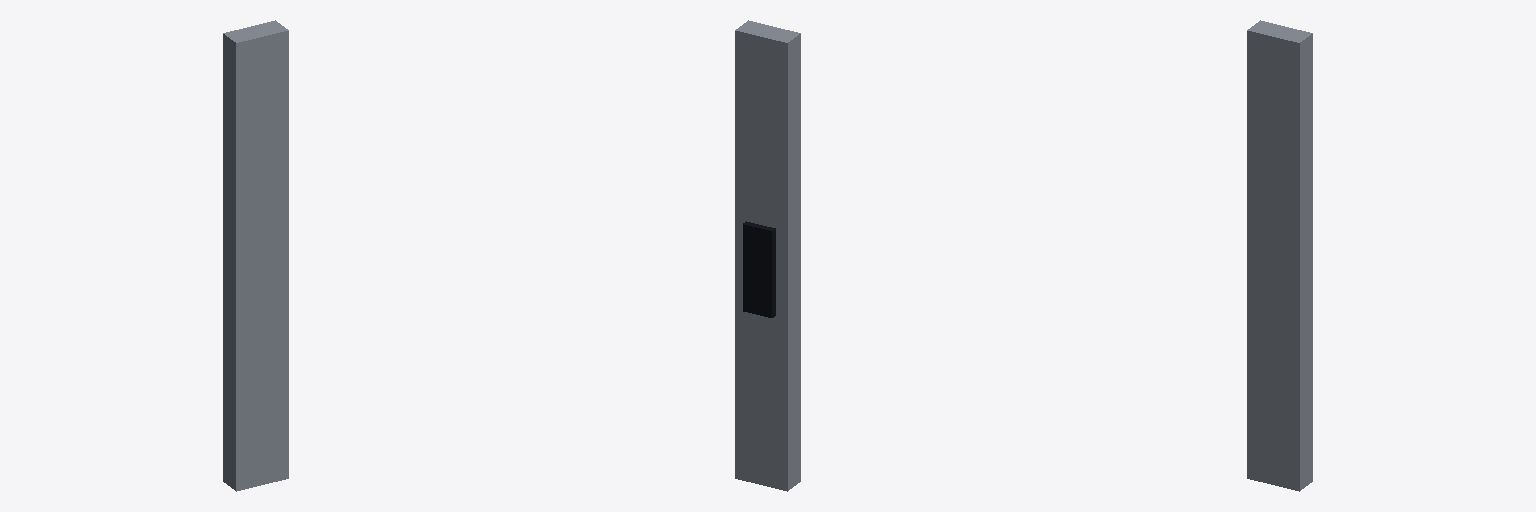
The robot description file, URDF, robot "artmanip_knife_029":
<?xml version='1.0' encoding='utf-8'?>
<robot name="artmanip_knife_029"><link name="link_0"><inertial><mass value="0.029" /><inertia ixx="5.583012354520432e-05" iyy="5.650144909367555e-05" izz="1.0045086728638997e-06" ixy="0" ixz="0" iyz="0" /></inertial><visual><geometry><box size="0.018620534945472077 0.008302676648498068 0.15176687928576918" /></geometry><material name="link_0_color"><color rgba=".58 .60 .64 1" /></material></visual><collision><geometry><box size="0.018620534945472077 0.008302676648498068 0.15176687928576918" /></geometry></collision></link><link name="link_1"><inertial><mass value="0.006" /><inertia ixx="4.3852058314336465e-07" iyy="4.917062818786497e-07" izz="5.8482626694500844e-08" ixy="0" ixz="0" iyz="0" /></inertial><visual><geometry><box size="0.010567323475212914 0.0023015055853105653 0.029525315211315076" /></geometry><material name="link_1_color"><color rgba=".12 .13 .15 1" /></material></visual><collision><geometry><box size="0.010567323475212914 0.0023015055853105653 0.029525315211315076" /></geometry></collision></link><joint name="slider" type="prismatic"><parent link="link_0" /><child link="link_1" /><origin xyz="0.0 0.005302091116904316 -0.0025823164975814286" /><axis xyz="0 0 1" /><limit lower="-0.02018271539528395" upper="0.029817284604716054" effort="100" velocity="1" /><dynamics damping="1000" friction="0.001" /></joint></robot>

--- What the picture shows (computed from the rendered views, not written in the file) ---
Views: 3 orthographic renders of the robot side by side, from view 1: azimuth 30°, elevation 25°; view 2: azimuth 150°, elevation 25°; view 3: azimuth 330°, elevation 25°.
Robot: artmanip_knife_029 — 2 links, 1 joints (1 prismatic); root link link_0; default pose: every joint at zero.
Links seen in each view (by area): view 1: link_0; view 2: link_0, link_1; view 3: link_0.
Boxes of the visible links, left/top/right/bottom form: link_0: left=223, top=20, right=288, bottom=491; link_0: left=735, top=20, right=800, bottom=491; link_1: left=743, top=221, right=775, bottom=317; link_0: left=1247, top=20, right=1312, bottom=491.
Size in the robot's own frame: 0.0186 by 0.0106 by 0.1518 metres.
Geometry: primitives only (box / cylinder / sphere), no mesh files.
